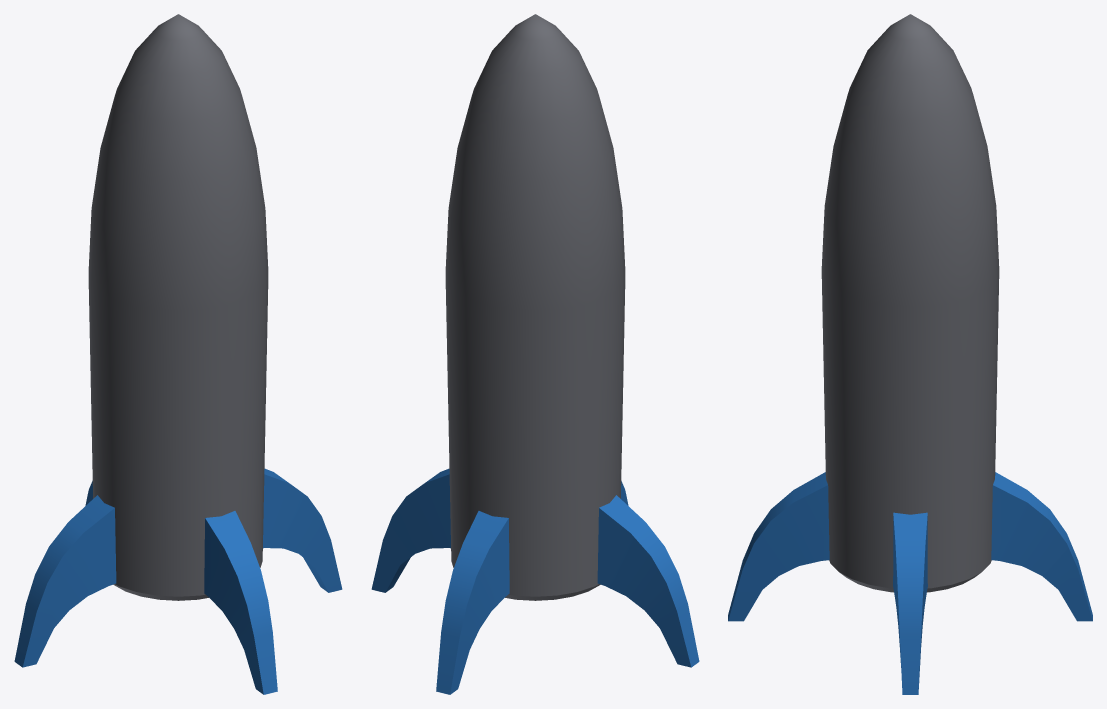
File: rocket.fbx
3 renders of one model, left to right at view 1: azimuth 30°, elevation 25°; view 2: azimuth 150°, elevation 25°; view 3: azimuth 270°, elevation 25°, orthographic.
Visible parts, largest first — view 1: rocket; view 2: rocket; view 3: rocket.
Boxes of the visible parts, x1,y1,x2,y2 form: rocket: (14, 14, 342, 694); rocket: (371, 14, 699, 694); rocket: (728, 14, 1092, 694).
Bounding box in the file's own units: 82.09 × 150 × 82.09.
